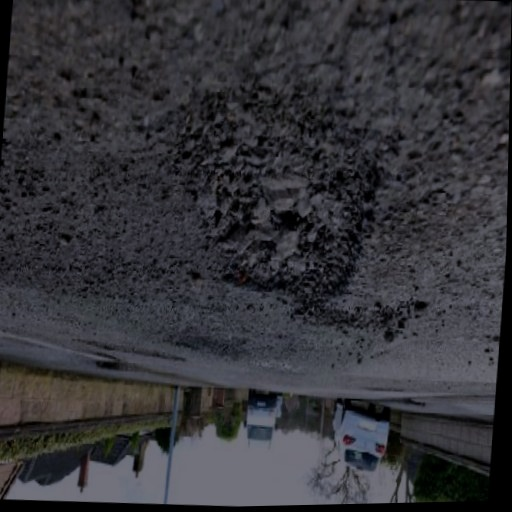pothole: (164, 84, 401, 326)
